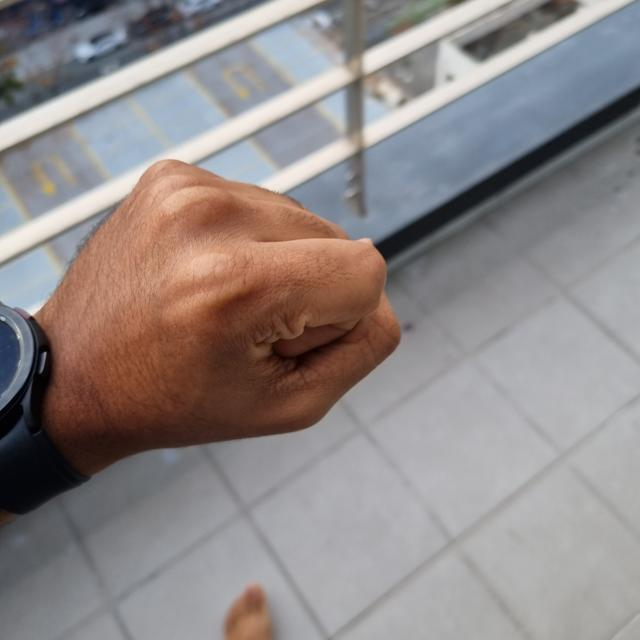Rock: (36, 161, 400, 448)
